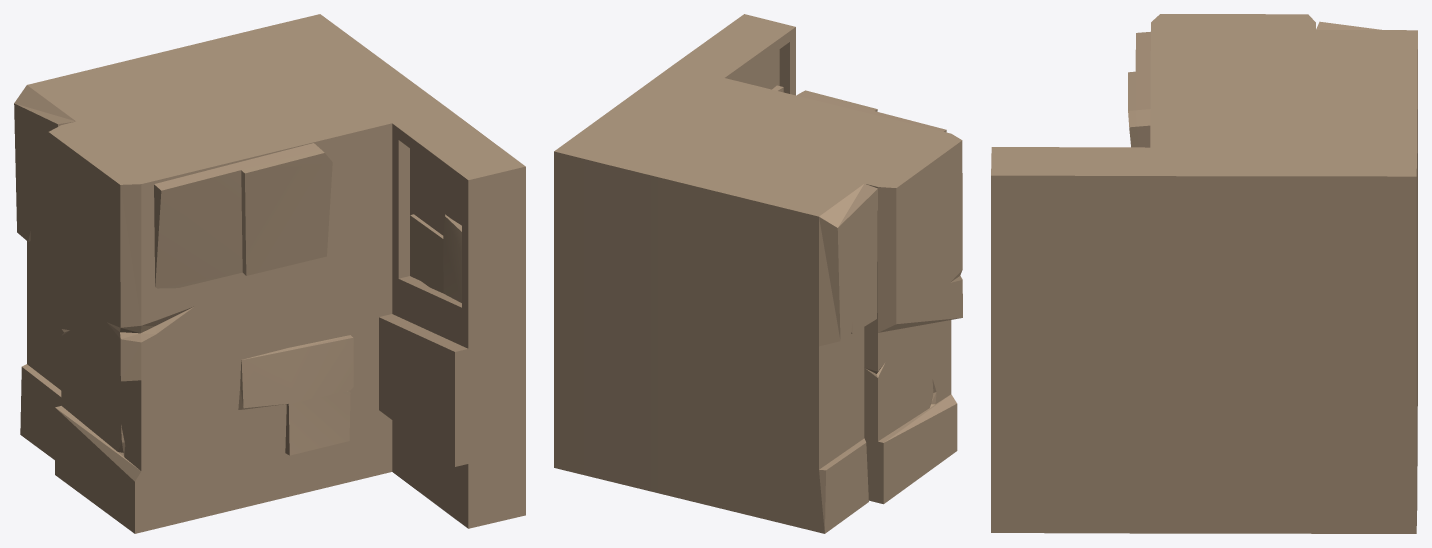
Rendered from ston wall2.FBX.
The picture shows the model from 3 angles, left to right: view 1: azimuth 30°, elevation 25°; view 2: azimuth 150°, elevation 25°; view 3: azimuth 270°, elevation 25°; orthographic projection. The views are drawn at different scales.
Visible parts, largest first — view 1: wall; view 2: wall; view 3: wall.
Part boxes in pixels (left/top/right/bottom): wall: left=14, top=14, right=525, bottom=533; wall: left=554, top=14, right=962, bottom=533; wall: left=991, top=14, right=1417, bottom=533.
Size of the model in its own units: 28.92 by 29.66 by 32.11.
